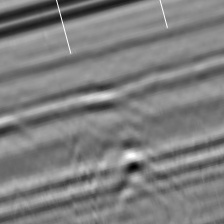Utility: (110, 146, 164, 208)
